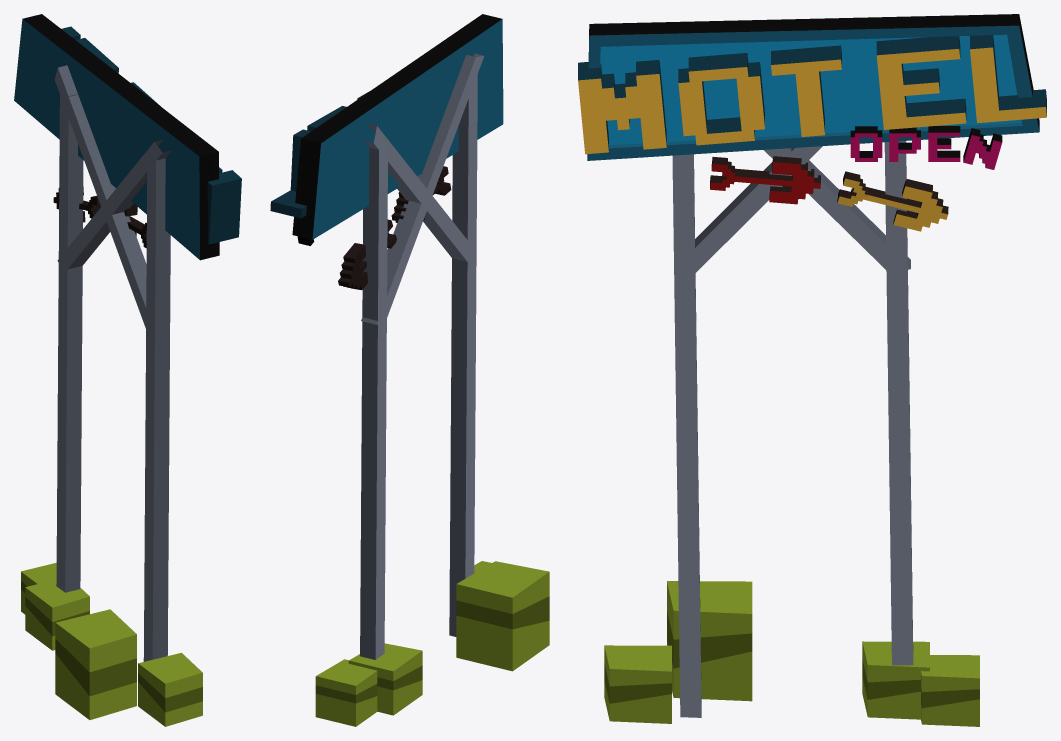
File: motelSign.FBX
3 renders of one model, left to right at view 1: azimuth 30°, elevation 25°; view 2: azimuth 150°, elevation 25°; view 3: azimuth 270°, elevation 25°, orthographic. The views are drawn at different scales.
Visible parts, largest first — view 1: motelSign, motel arow2, motel arow1; view 2: motelSign, motel arow1, motel arow2; view 3: motelSign, motel arow1, motel arow2.
Boxes of the visible parts, x1,y1,x2,y2 form: motelSign: (14,14,241,726); motel arow2: (124,203,146,248); motel arow1: (53,187,100,222); motelSign: (270,14,549,726); motel arow1: (338,219,396,290); motel arow2: (391,166,451,222); motelSign: (578,14,1046,726); motel arow1: (837,171,948,231); motel arow2: (710,156,820,204).
Size of the model in its own units: 44.9 by 130 by 214.
